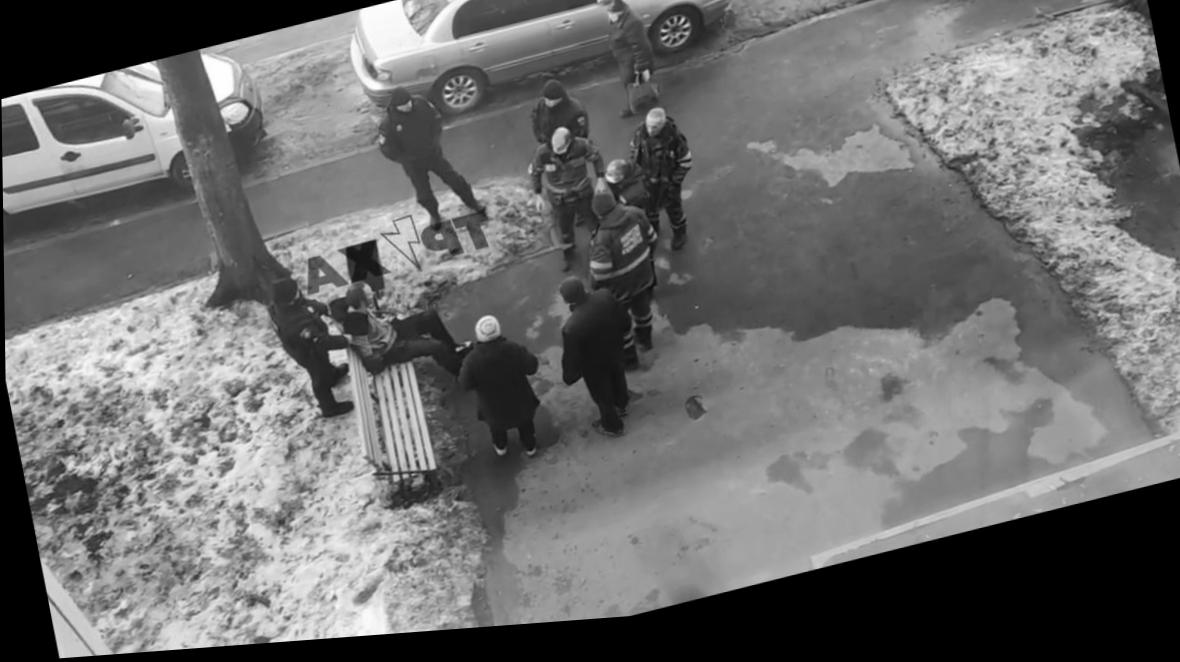car: (1, 35, 278, 253), (336, 0, 745, 140)
person: (323, 254, 480, 404), (364, 67, 489, 237), (544, 263, 654, 448), (443, 302, 557, 475), (572, 178, 675, 362), (262, 262, 365, 430), (518, 117, 622, 279), (617, 100, 708, 259), (594, 0, 667, 121), (521, 73, 592, 162), (593, 149, 659, 241)
